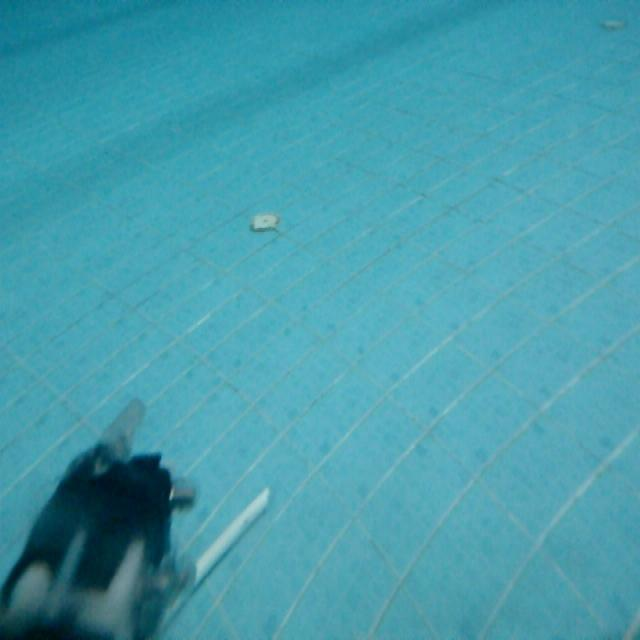Cube: (189, 484, 271, 582)
